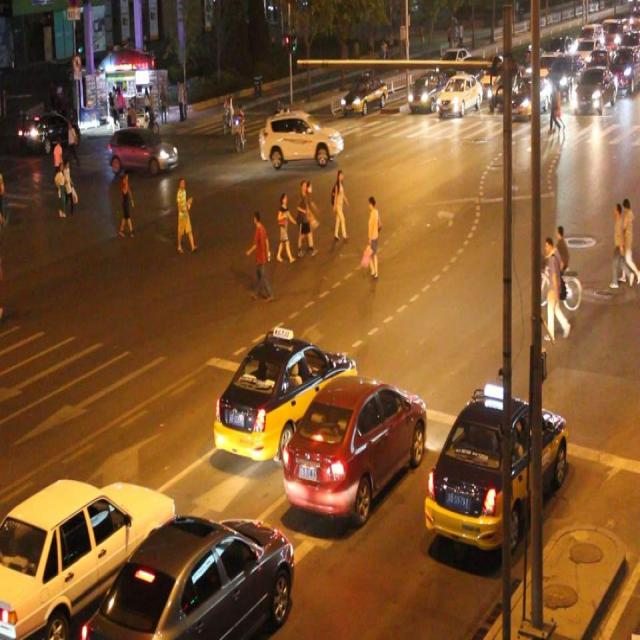car: (0, 484, 174, 640), (85, 515, 292, 640), (283, 371, 426, 527), (427, 390, 565, 550), (214, 333, 356, 462), (260, 111, 342, 171), (107, 126, 178, 178), (339, 75, 388, 116), (435, 76, 480, 116), (406, 71, 446, 112)
